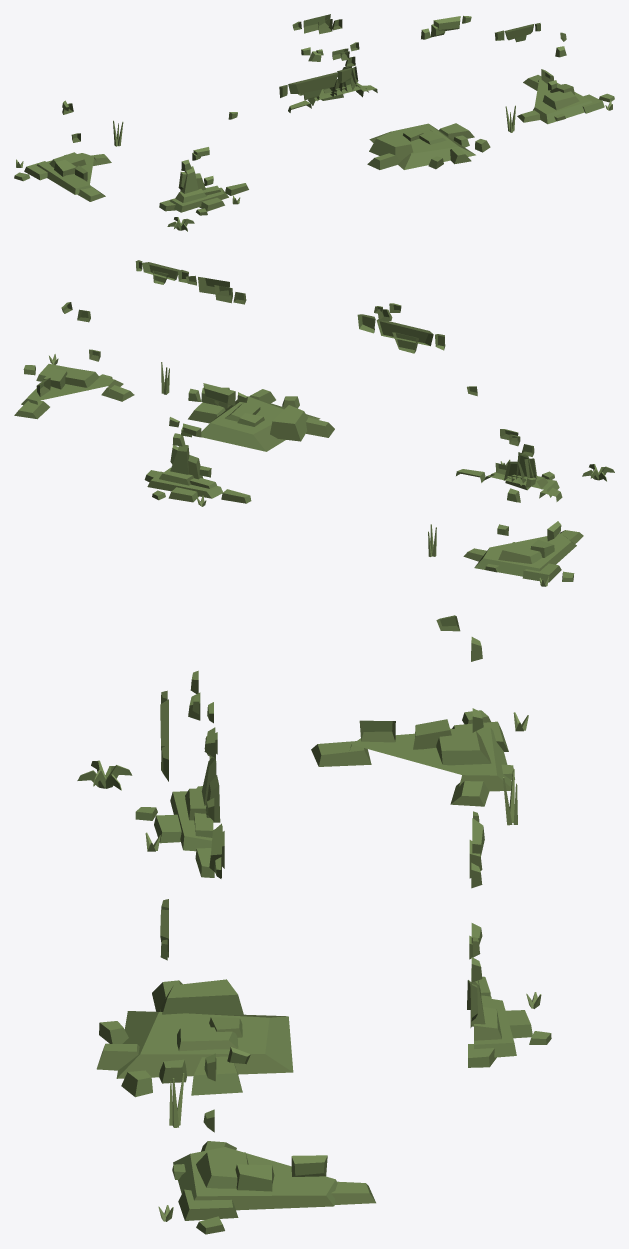
Rendered from SA_Bld_Motel_Damaged_Growth_01.gltf.
The picture shows the model from 3 angles, top to bottom: view 1: azimuth 30°, elevation 25°; view 2: azimuth 150°, elevation 25°; view 3: azimuth 270°, elevation 25°; orthographic projection. The views are drawn at different scales.
Parts seen in each view (by area): view 1: SA_Bld_Motel_Damaged_Growth_01; view 2: SA_Bld_Motel_Damaged_Growth_01; view 3: SA_Bld_Motel_Damaged_Growth_01.
Boxes of the visible parts, <box> form: SA_Bld_Motel_Damaged_Growth_01: <box>14,14,614,231</box>; SA_Bld_Motel_Damaged_Growth_01: <box>14,260,614,586</box>; SA_Bld_Motel_Damaged_Growth_01: <box>77,615,551,1234</box>.
Bounding box in the file's own units: 42.09 × 9.74 × 16.24.
1 material, 1 textured.
